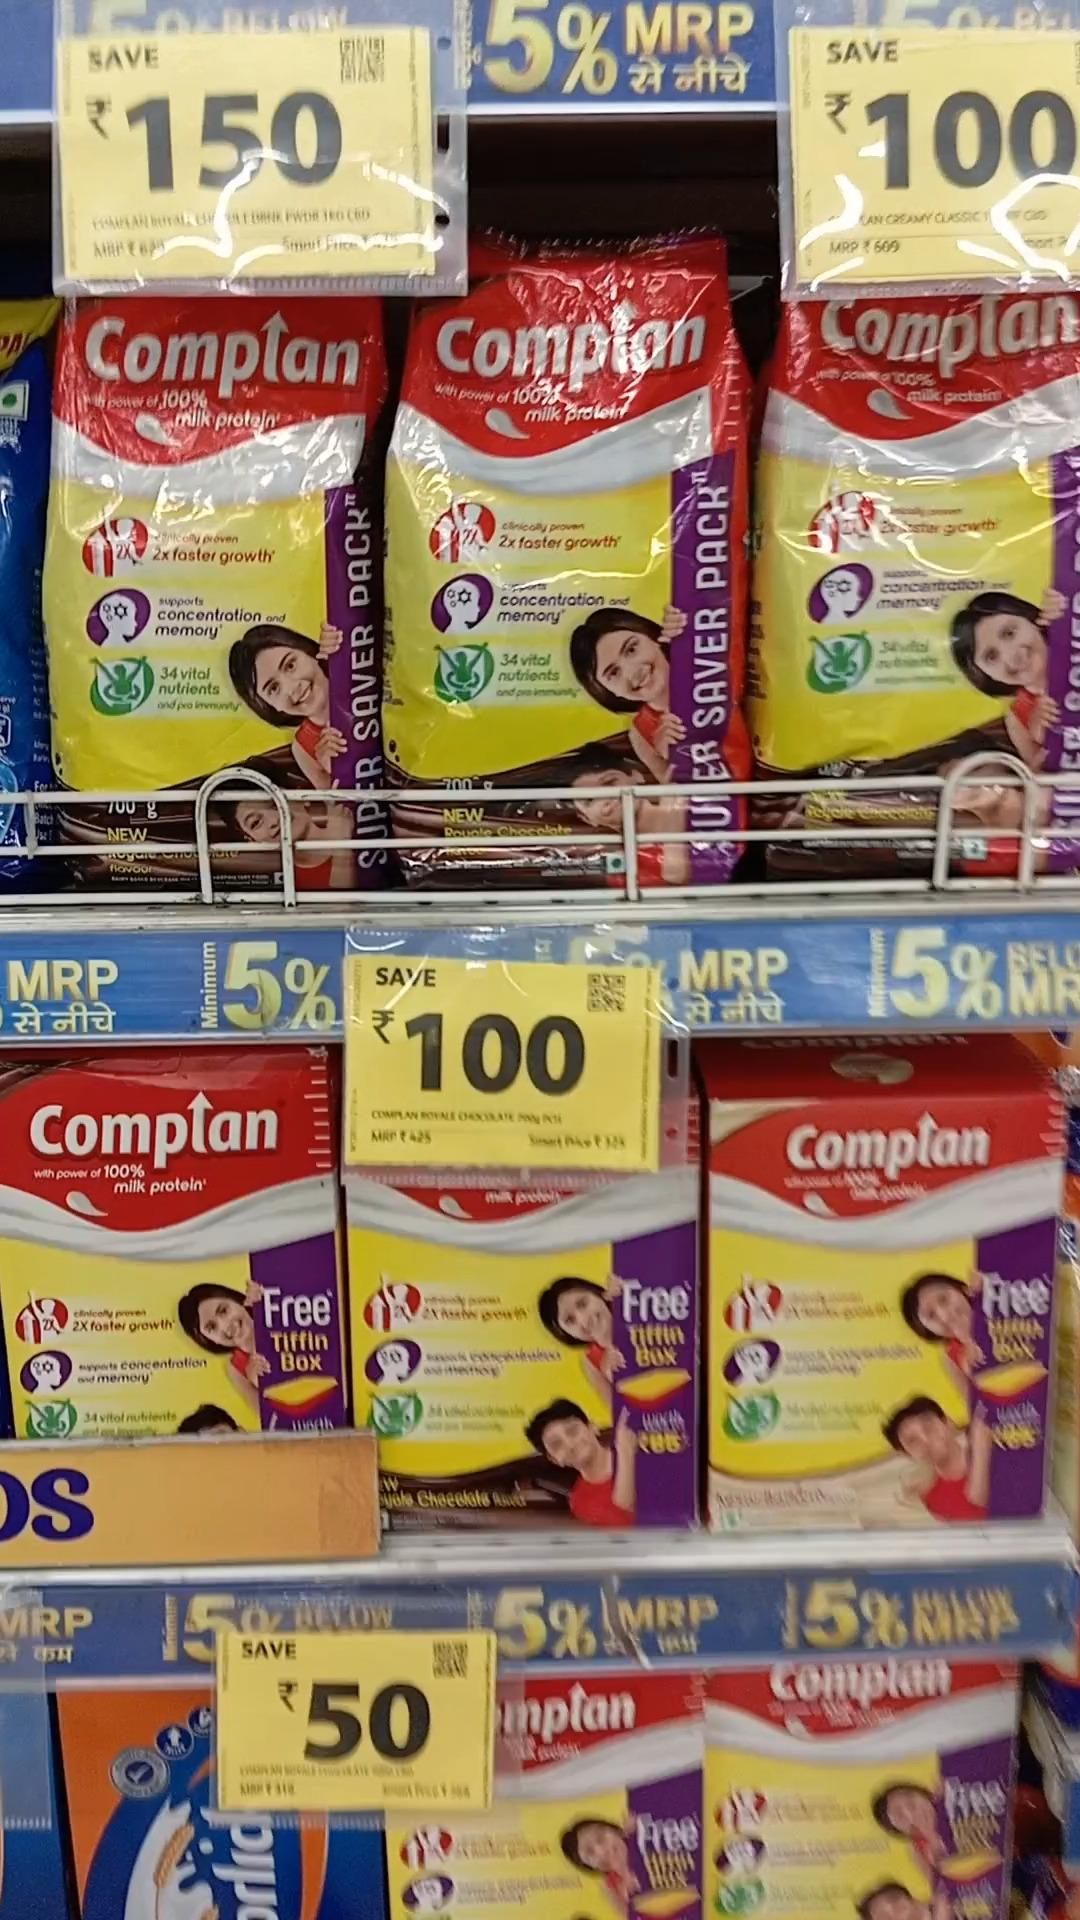COMPLAN_CHOCOLATE_500_GMS_PACK: (355, 1149, 700, 1530), (0, 1048, 335, 1420)
COMPLAN_KESAR_BADAM_500_GMS_PACK: (704, 1088, 1046, 1528)
COMPLAN_RC_POUCH_700_GMS_12: (402, 241, 749, 880), (46, 305, 386, 882), (761, 299, 1080, 874)
